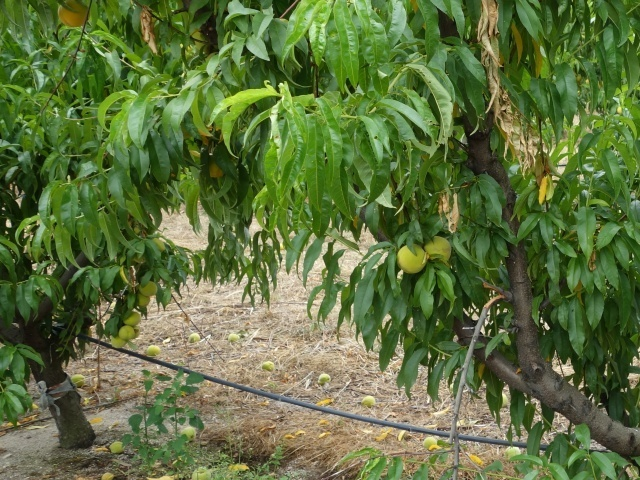peach: (391, 241, 430, 279), (418, 231, 454, 266), (53, 1, 93, 29), (118, 308, 141, 329), (113, 323, 136, 344), (138, 279, 159, 299), (129, 291, 149, 310), (107, 336, 128, 354)
